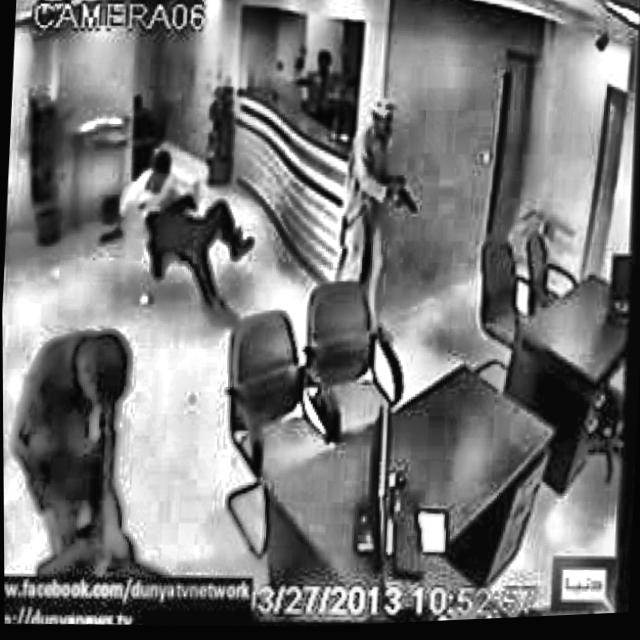robbery: (91, 142, 263, 339), (329, 99, 430, 289)
